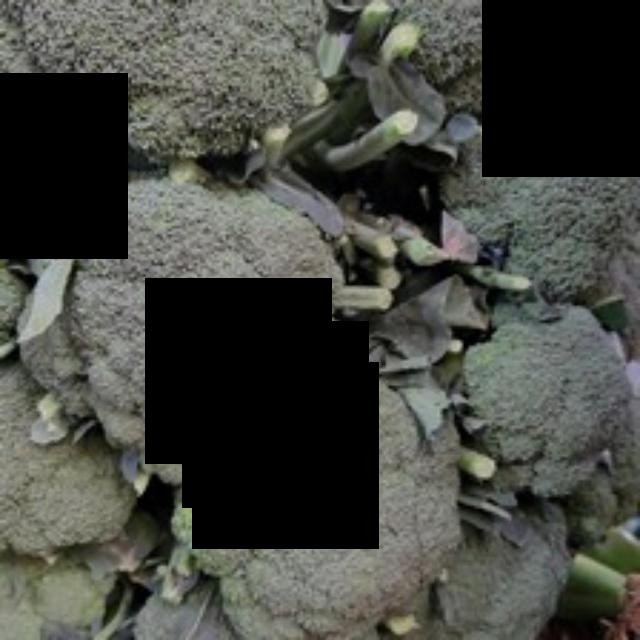broccoli: (58, 168, 348, 456)
